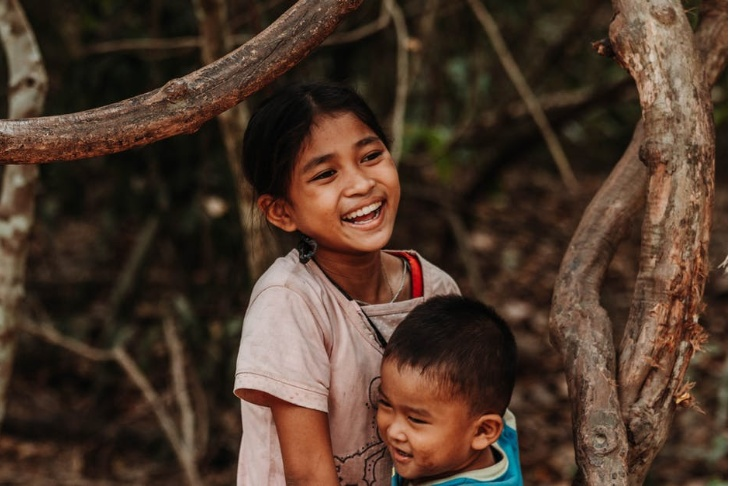face: (297, 113, 401, 252), (376, 360, 459, 478)
